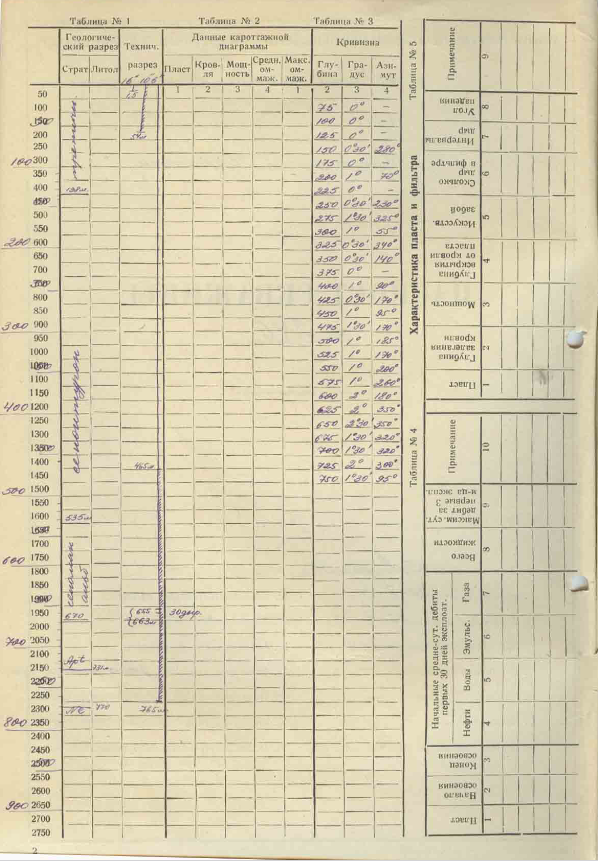Bordered: (309, 26, 405, 486)
